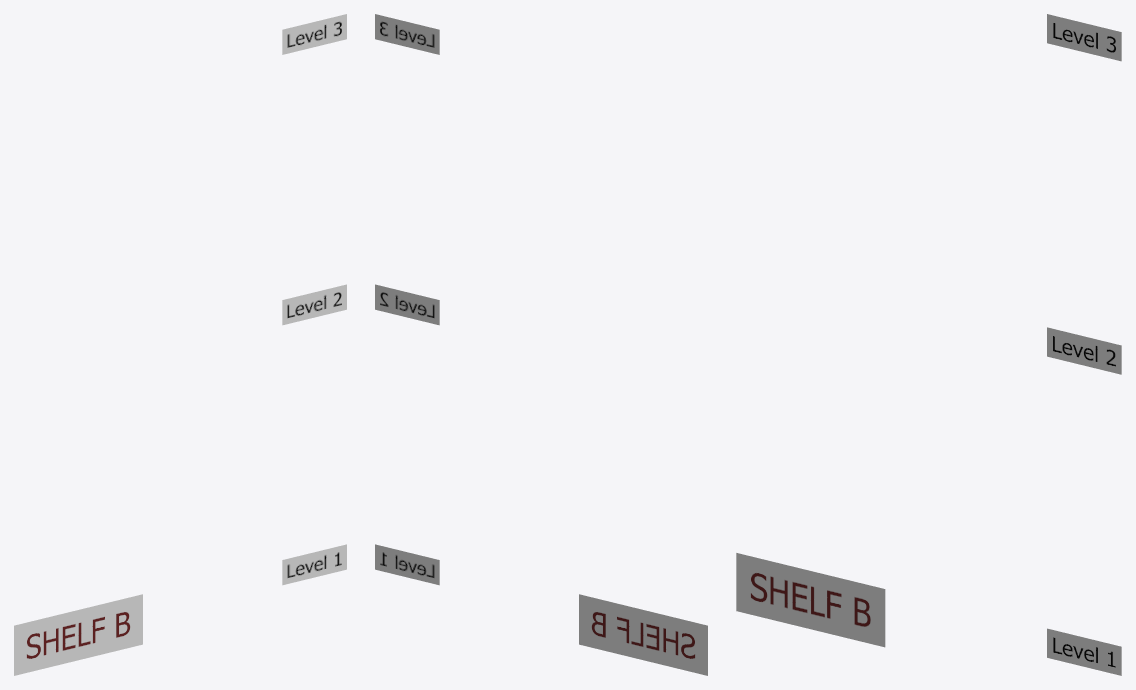
Rendered from shelfBLabels.fbx.
3 renders of one model, left to right at view 1: azimuth 30°, elevation 25°; view 2: azimuth 150°, elevation 25°; view 3: azimuth 330°, elevation 25°, orthographic. The views are drawn at different scales.
Visible parts, largest first — view 1: pPlane2, pPlane1, pasted__pPlane1, pasted__pPlane2; view 2: pPlane2, pPlane1, pasted__pPlane1, pasted__pPlane2; view 3: pPlane2, pPlane1, pasted__pPlane1, pasted__pPlane2.
Boxes of the visible parts, <box> form: pPlane2: <box>14,594,142,675</box>; pPlane1: <box>282,14,346,54</box>; pasted__pPlane1: <box>282,544,346,585</box>; pasted__pPlane2: <box>282,284,346,325</box>; pPlane2: <box>579,594,707,675</box>; pPlane1: <box>375,14,439,54</box>; pasted__pPlane1: <box>375,544,439,585</box>; pasted__pPlane2: <box>375,284,439,325</box>; pPlane2: <box>736,553,885,647</box>; pPlane1: <box>1047,14,1121,61</box>; pasted__pPlane1: <box>1047,628,1121,675</box>; pasted__pPlane2: <box>1047,327,1121,374</box>.
Size of the model in its own units: 74.67 by 125 by 0.
4 materials, 4 textured.
